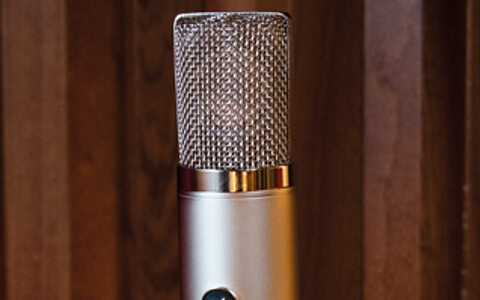microphone: (170, 9, 302, 300)
